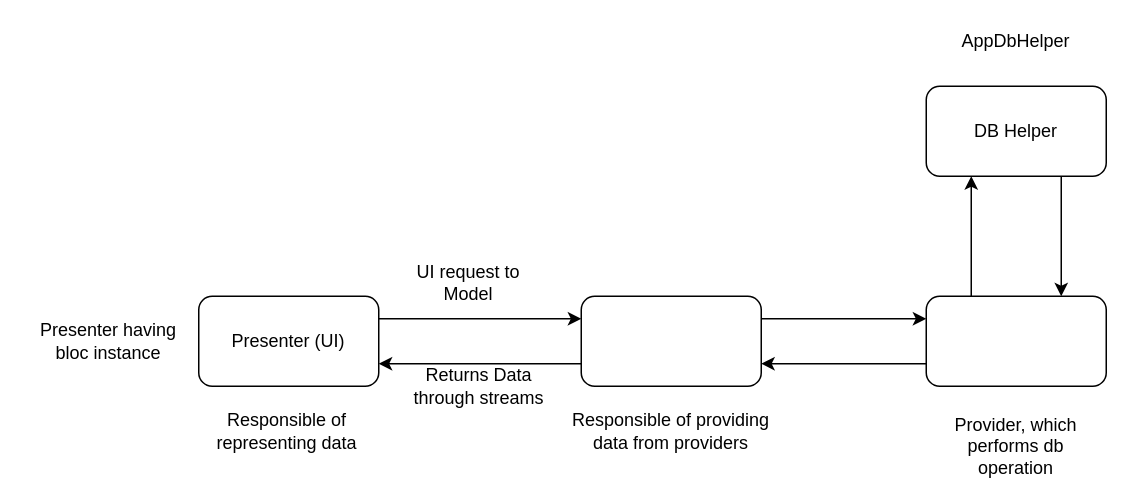
The diagram is 1133 pixels wide and 504 high, and some of its shapes have lost their labels. Each missing label, with the centre of its shape:
"Bloc" goes at point (670, 340).
"Provider" goes at point (1015, 340).
